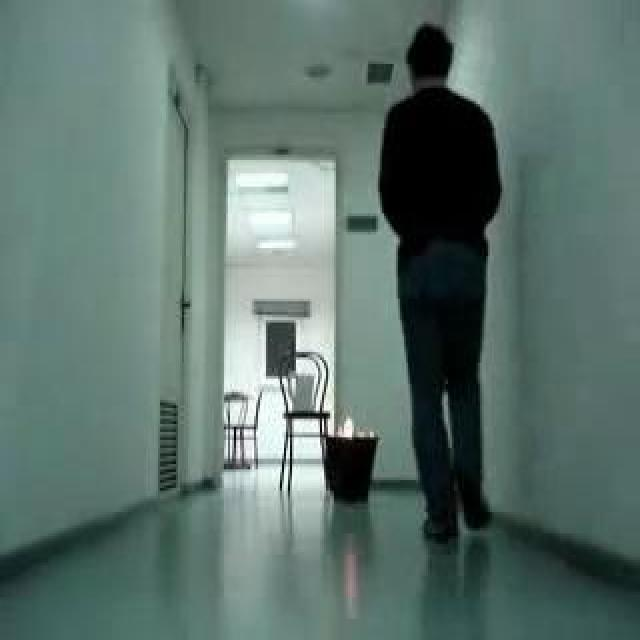Fire: (336, 413, 364, 440)
